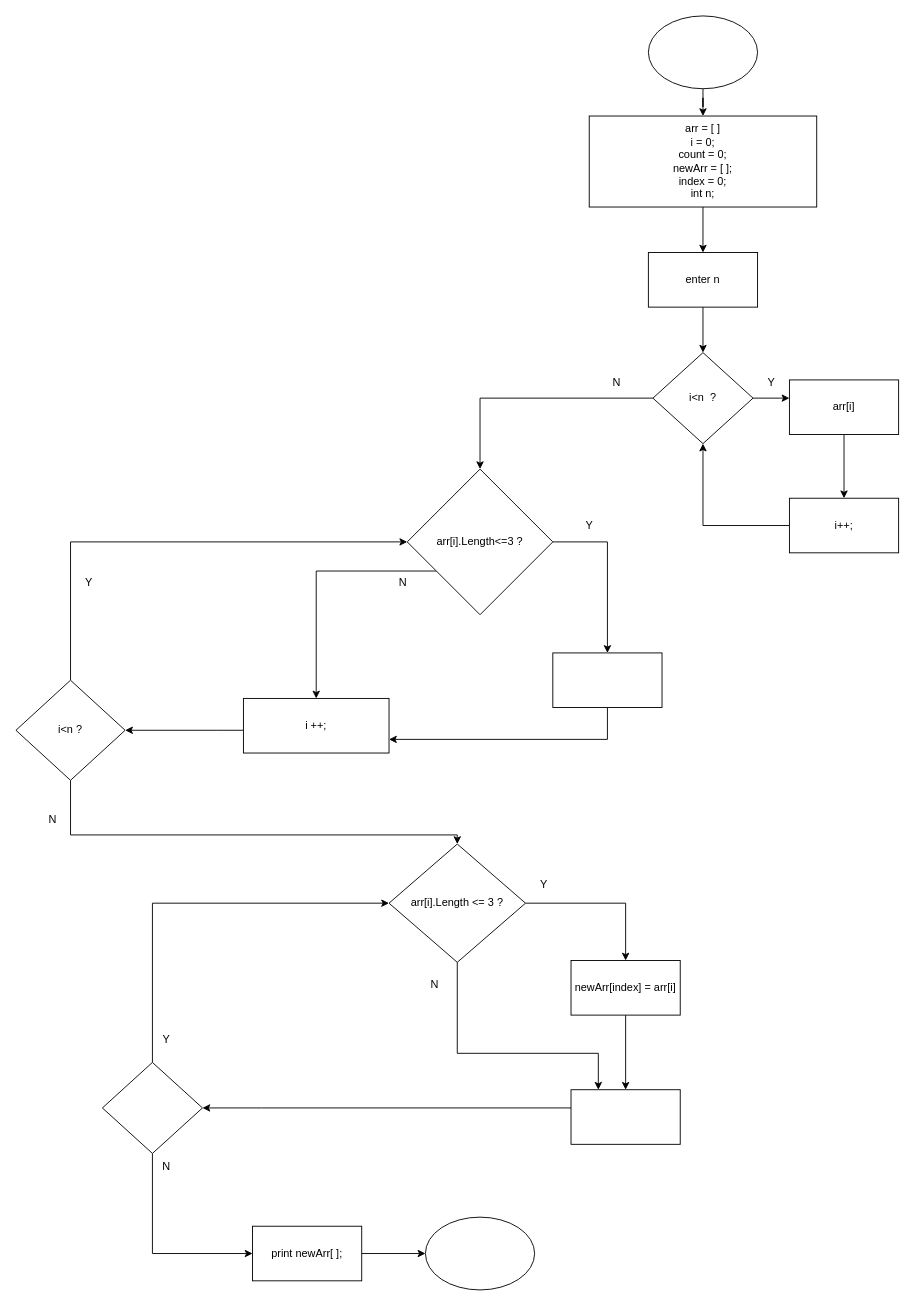
The diagram is 915 pixels wide and 1306 high, and some of its shapes have lost their labels. Here are the shapes that lost their labels. From the top down, the centre of each, then its label:
the point at 702,52: start
the point at 607,680: count++;
the point at 151,1107: index<count ?
the point at 625,1116: index++;
the point at 480,1253: Finish
